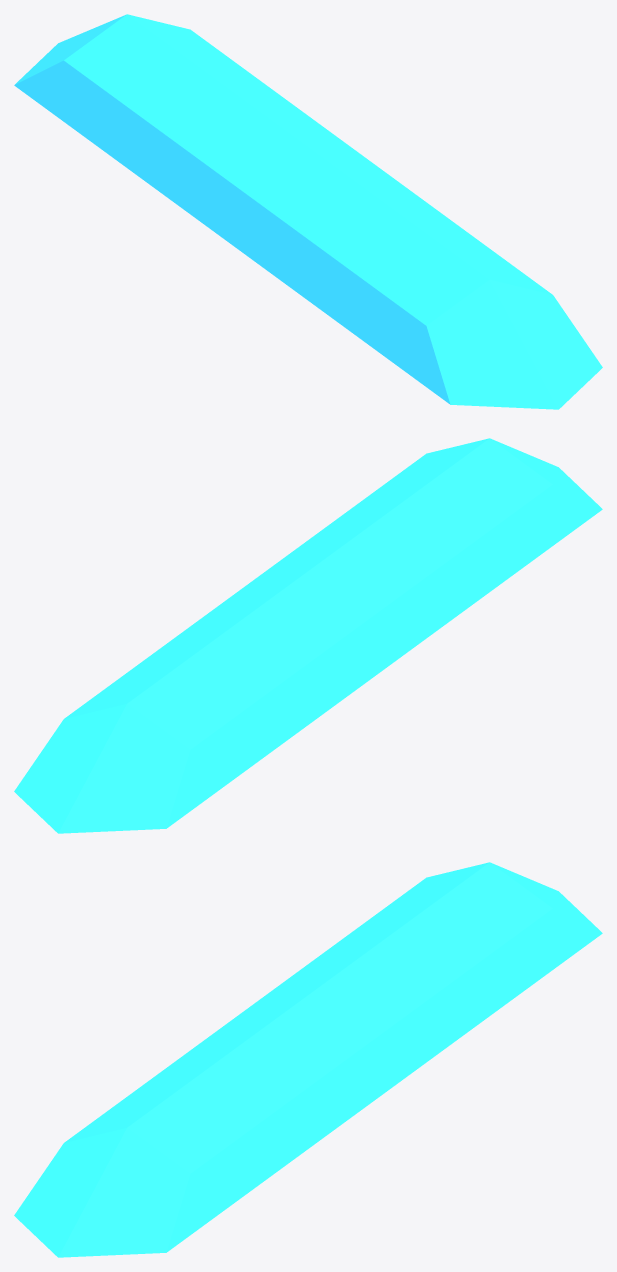
File: NeonA.fbx
3 renders of one model, top to bottom at view 1: azimuth 30°, elevation 25°; view 2: azimuth 150°, elevation 25°; view 3: azimuth 330°, elevation 25°, orthographic.
Parts seen in each view (by area): view 1: neonA; view 2: neonA; view 3: neonA.
Part boxes in pixels (x1,y1,x2,y2): neonA: (14,14,602,409); neonA: (14,438,602,833); neonA: (14,862,602,1257).
Size of the model in its own units: 3.13 by 1.56 by 17.77.
